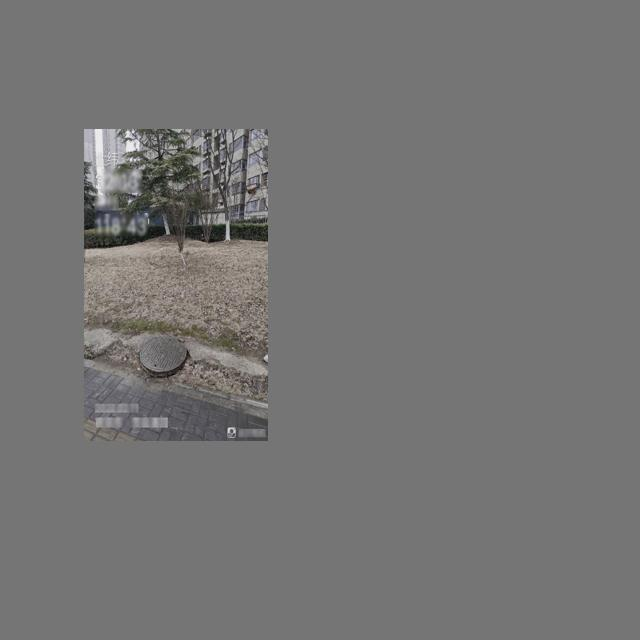circle: (138, 334, 189, 376)
